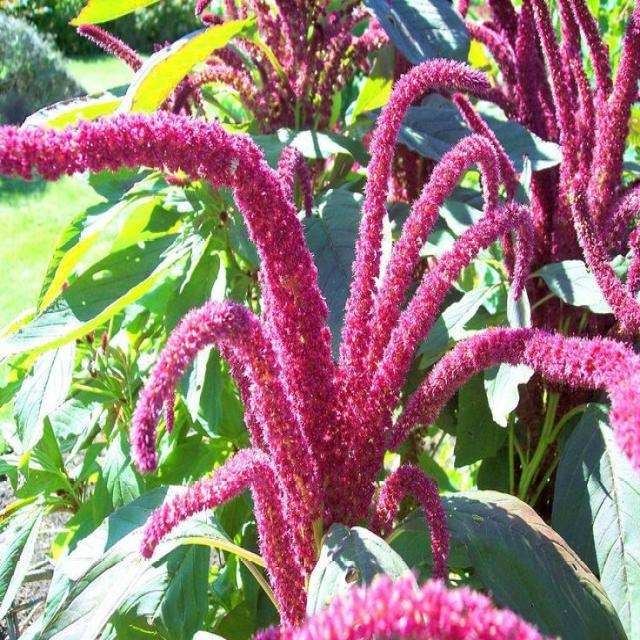Medicinal-Arive Dantu: (99, 0, 606, 518)
